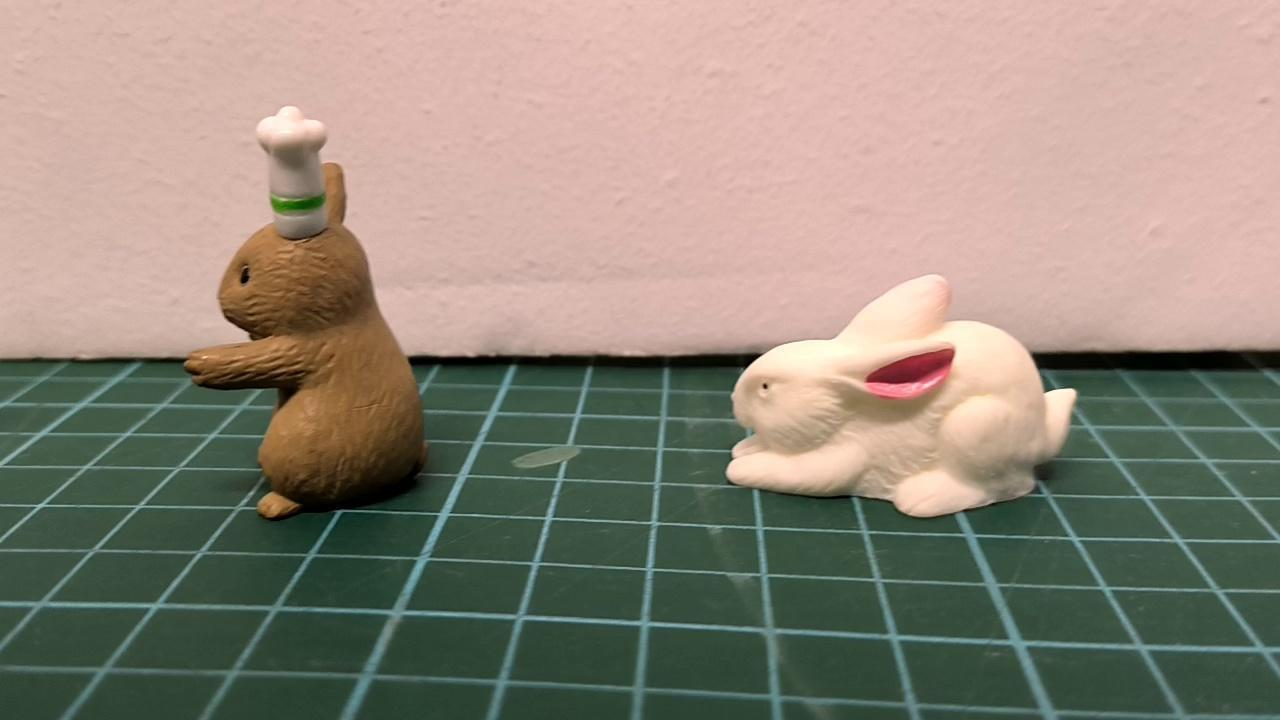pet: (724, 274, 1077, 517), (184, 164, 426, 518)
